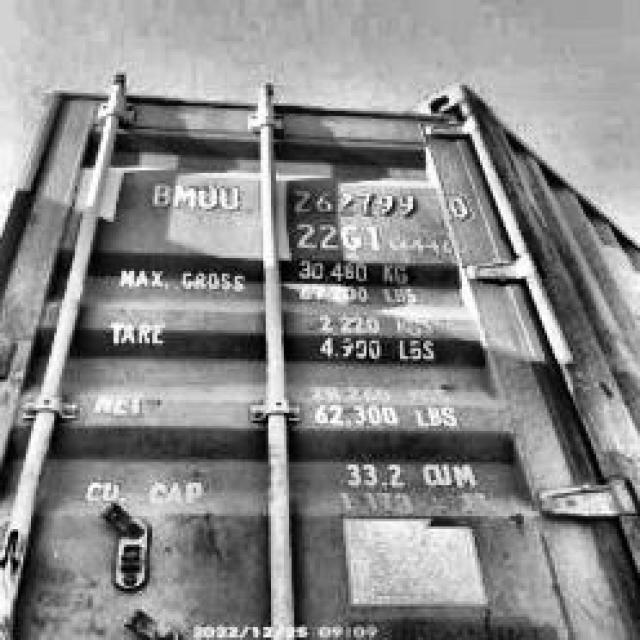ISO: (286, 222, 396, 247)
container_number: (150, 174, 478, 220)
